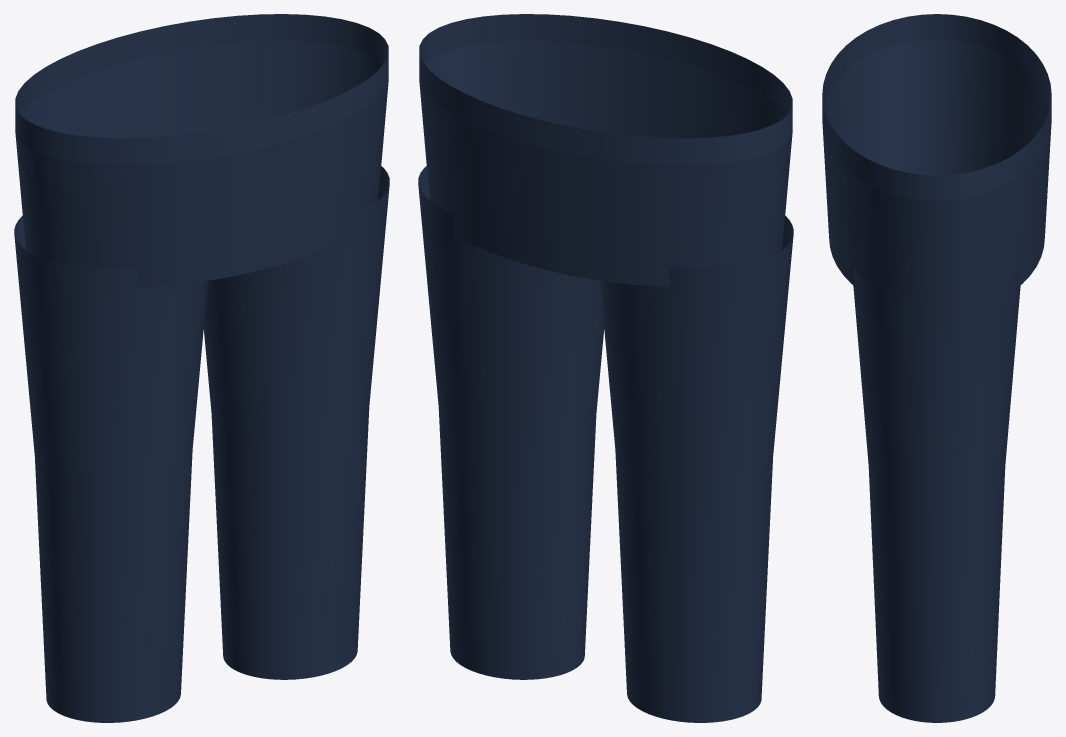
The model's file is export-trousers.glb.
3 views of the same model, side by side, from view 1: azimuth 30°, elevation 25°; view 2: azimuth 150°, elevation 25°; view 3: azimuth 270°, elevation 25° (orthographic). The views are drawn at different scales.
Parts seen in each view (by area): view 1: Leg_left, Leg_right, Waist, Waistband; view 2: Leg_left, Leg_right, Waist, Waistband; view 3: Leg_right, Waist, Waistband, Leg_left.
Part boxes in pixels (x1=…): Leg_left: x1=14, y1=216, x2=207, y2=722; Leg_right: x1=203, y1=166, x2=389, y2=679; Waist: x1=15, y1=41, x2=388, y2=286; Waistband: x1=15, y1=14, x2=388, y2=165; Leg_left: x1=600, y1=216, x2=793, y2=722; Leg_right: x1=418, y1=166, x2=604, y2=679; Waist: x1=419, y1=41, x2=792, y2=286; Waistband: x1=419, y1=14, x2=792, y2=165; Leg_right: x1=853, y1=266, x2=1020, y2=722; Waist: x1=822, y1=39, x2=1051, y2=297; Waistband: x1=822, y1=14, x2=1051, y2=200; Leg_left: x1=891, y1=161, x2=982, y2=175.
Bounding box in the file's own units: 0.68 × 1.1 × 0.408.
